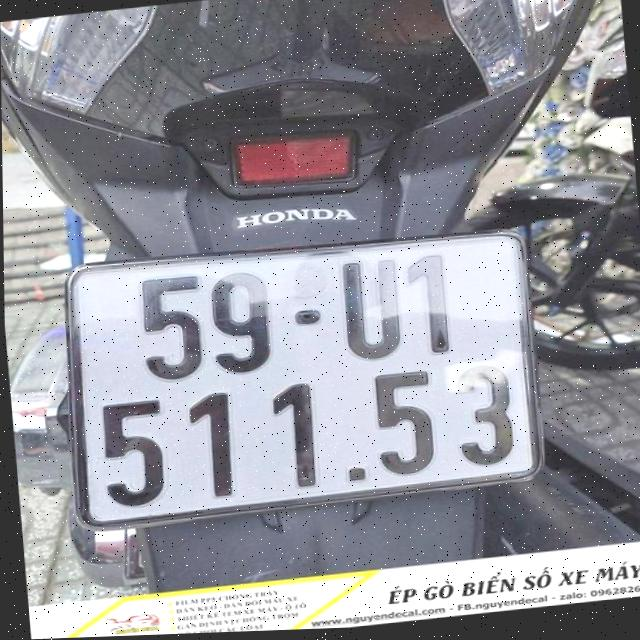motorcycle: (0, 0, 640, 619)
plate: (44, 210, 551, 535)
